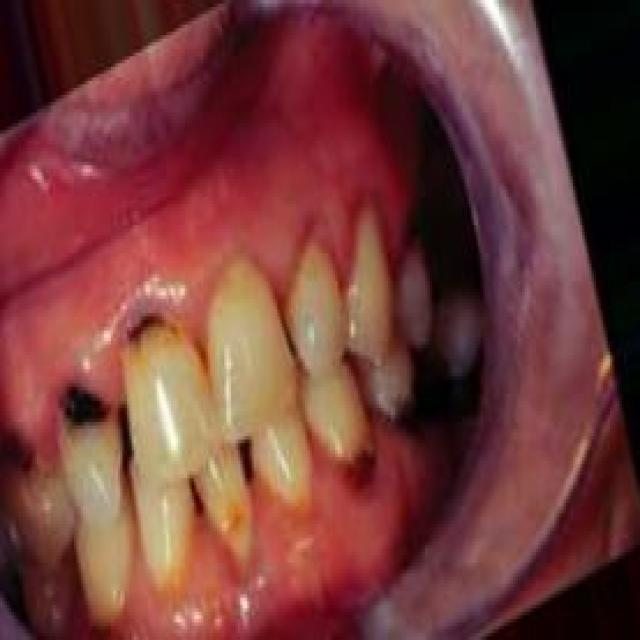caries: (117, 294, 193, 369), (48, 364, 118, 442), (329, 424, 386, 497)
